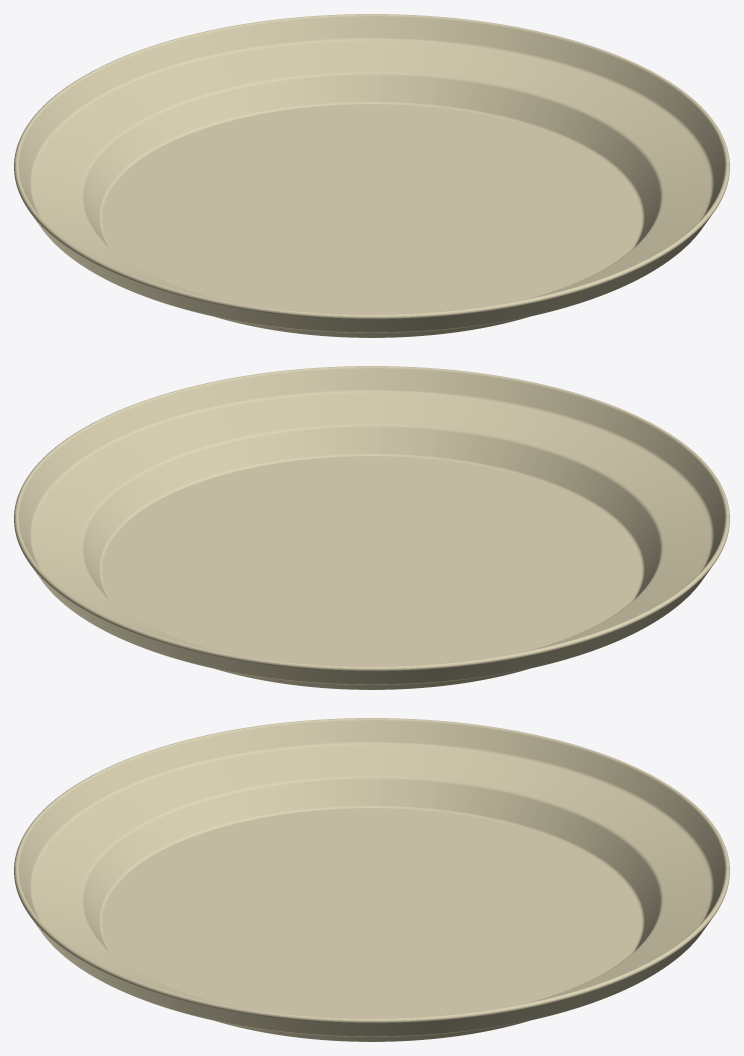
The model's file is plate.fbx.
The picture shows the model from 3 angles, top to bottom: view 1: azimuth 30°, elevation 25°; view 2: azimuth 150°, elevation 25°; view 3: azimuth 270°, elevation 25°; orthographic projection.
Visible parts, largest first — view 1: plate1; view 2: plate1; view 3: plate1.
Part boxes in pixels (x1=…): plate1: x1=14, y1=14, x2=729, y2=337; plate1: x1=14, y1=366, x2=729, y2=689; plate1: x1=14, y1=718, x2=729, y2=1041.
Size of the model in its own units: 43.67 by 3.92 by 43.67.
